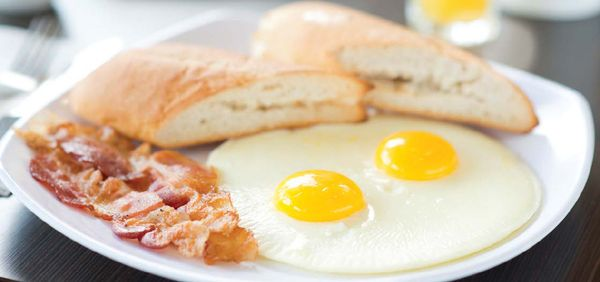pizza: (403, 1, 502, 48)
soup: (248, 2, 537, 139)
